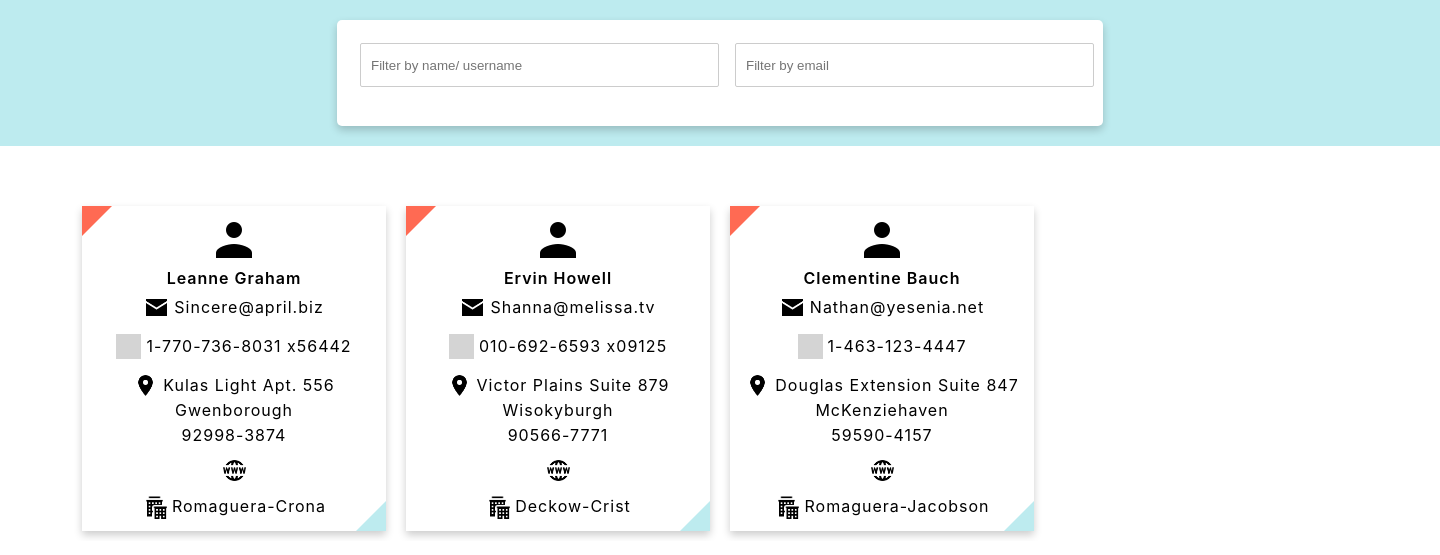
Test: Users page › should filter values with email
Type "Sincere@april.biz" into the field with test id "email-filter" at (914, 65), box [735,43,1094,87]
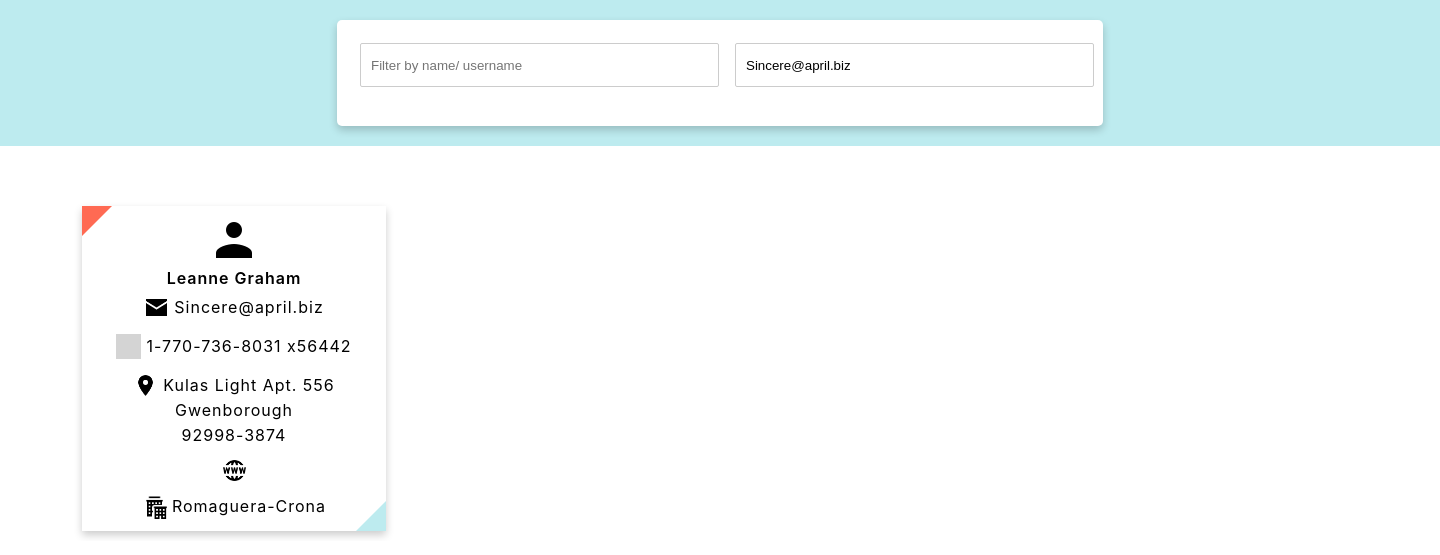
Expected: the element with test id "company1" is shown, [142,494,326,519]
Result: the element with test id "userContent2" is gone
Result: the element with test id "userContent3" is gone
